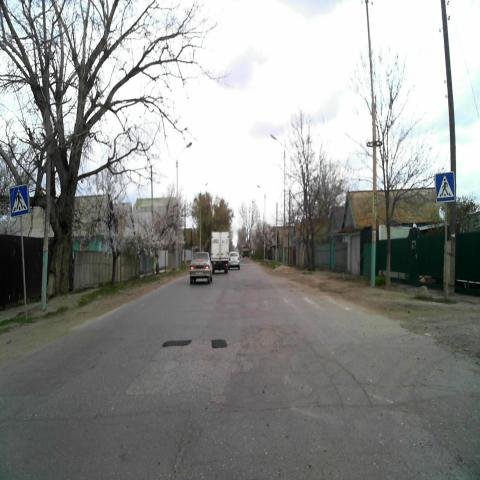5_19_1: (434, 171, 456, 203), (10, 186, 30, 216)
